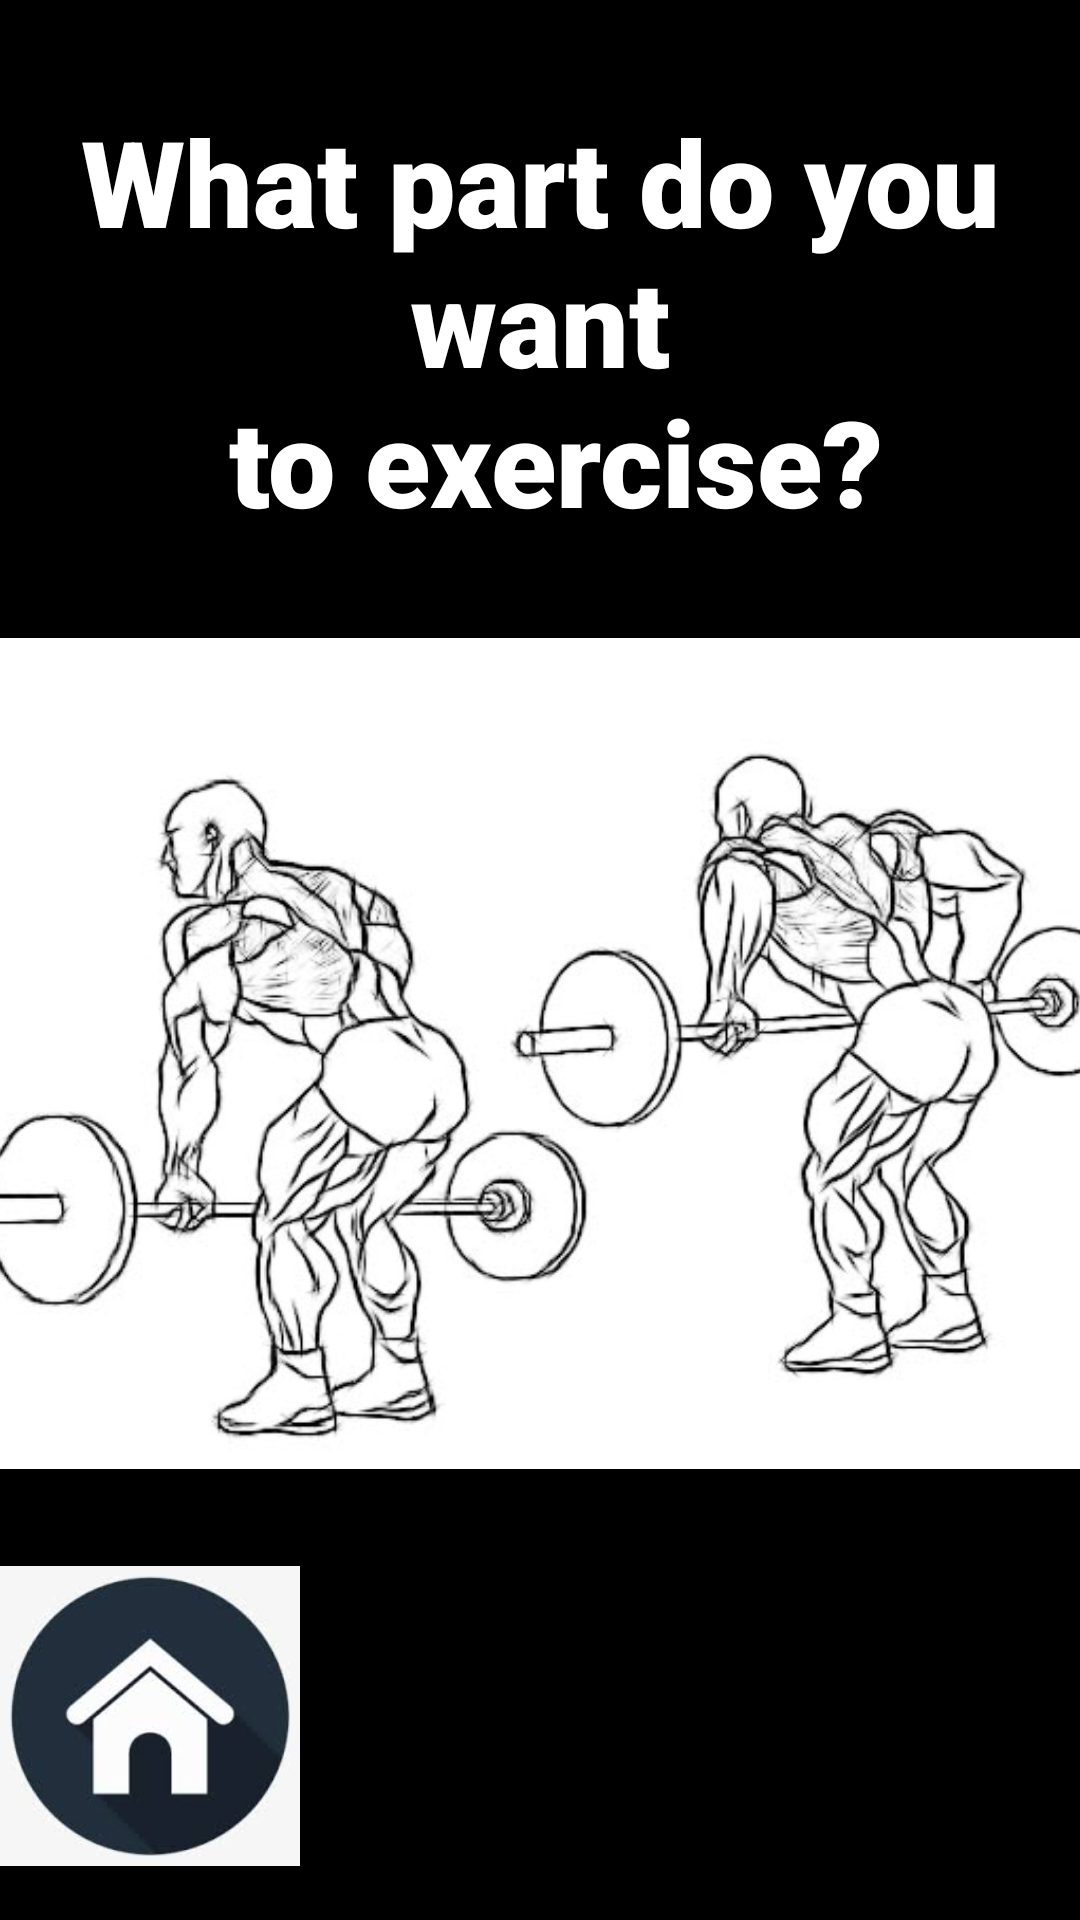

Where to tap for icons on this 1080x1920 app screen, as point (x, y):
home: point (150, 1716)
